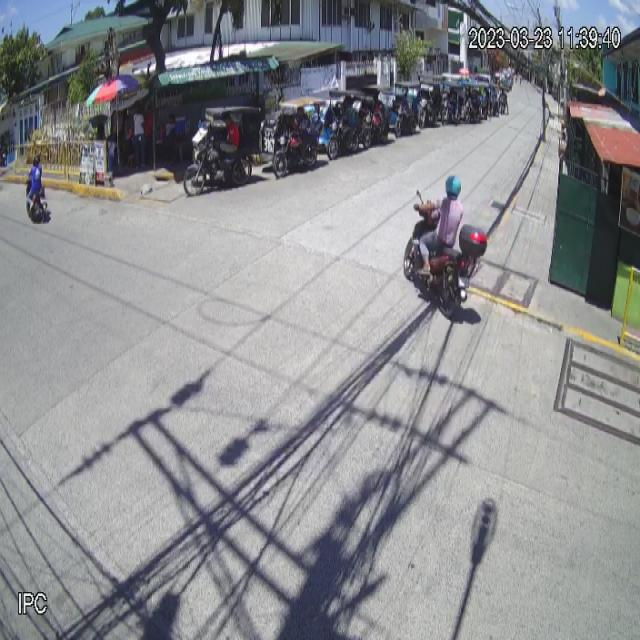Motorcycle: (402, 189, 488, 319)
